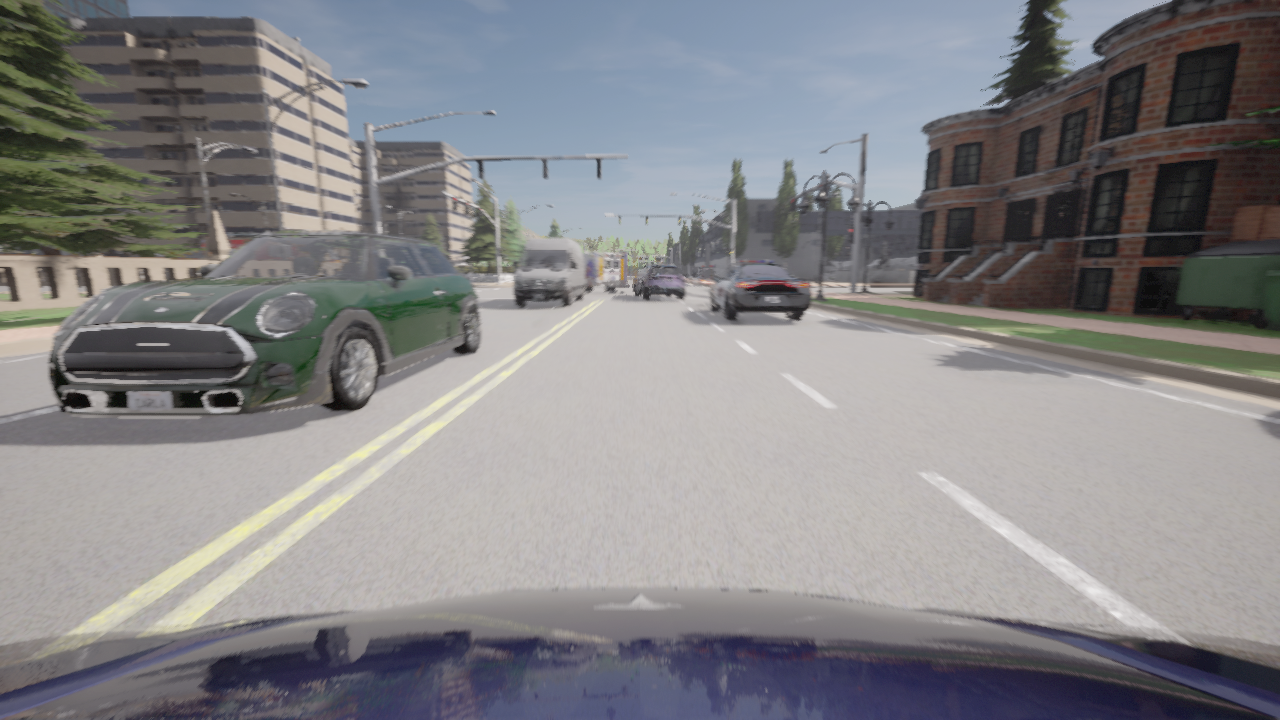cyclist: (0, 588, 1279, 719), (48, 231, 481, 417), (710, 261, 810, 320), (514, 238, 584, 306), (582, 252, 628, 292), (633, 264, 685, 299), (201, 234, 257, 258), (190, 273, 191, 278), (111, 286, 115, 287)
